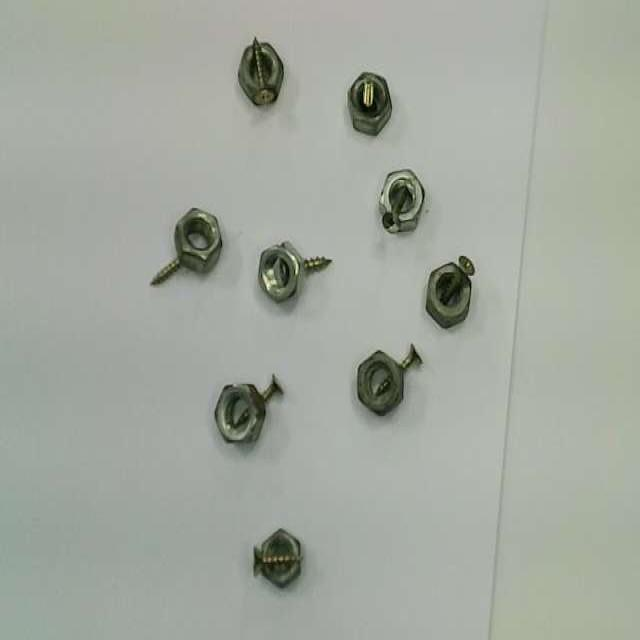Parafuso: (377, 343, 424, 396), (238, 375, 283, 428), (441, 254, 476, 307), (253, 545, 305, 577), (254, 37, 276, 108), (279, 257, 334, 283), (381, 185, 407, 234), (153, 256, 185, 291), (364, 78, 374, 111)
Porca: (256, 238, 306, 311), (175, 205, 224, 277), (424, 262, 471, 334), (212, 384, 266, 444), (359, 350, 408, 416), (380, 165, 425, 234), (239, 41, 285, 108), (349, 72, 392, 137), (262, 529, 302, 594)
